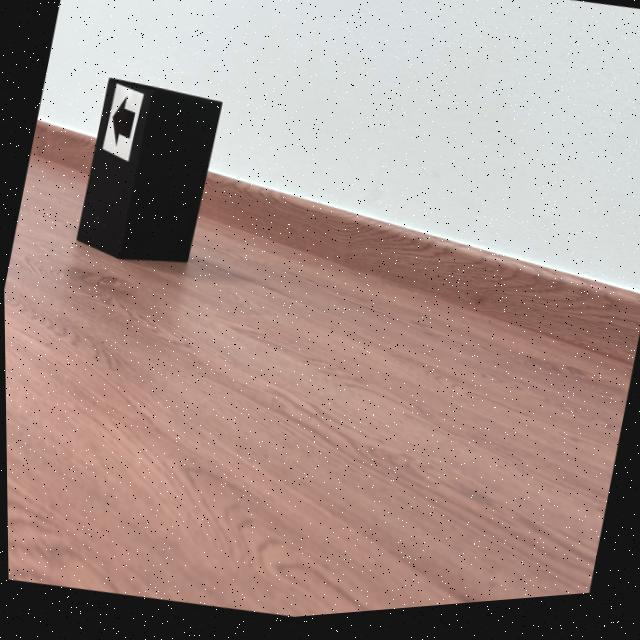LEFT: (111, 98, 134, 146)
